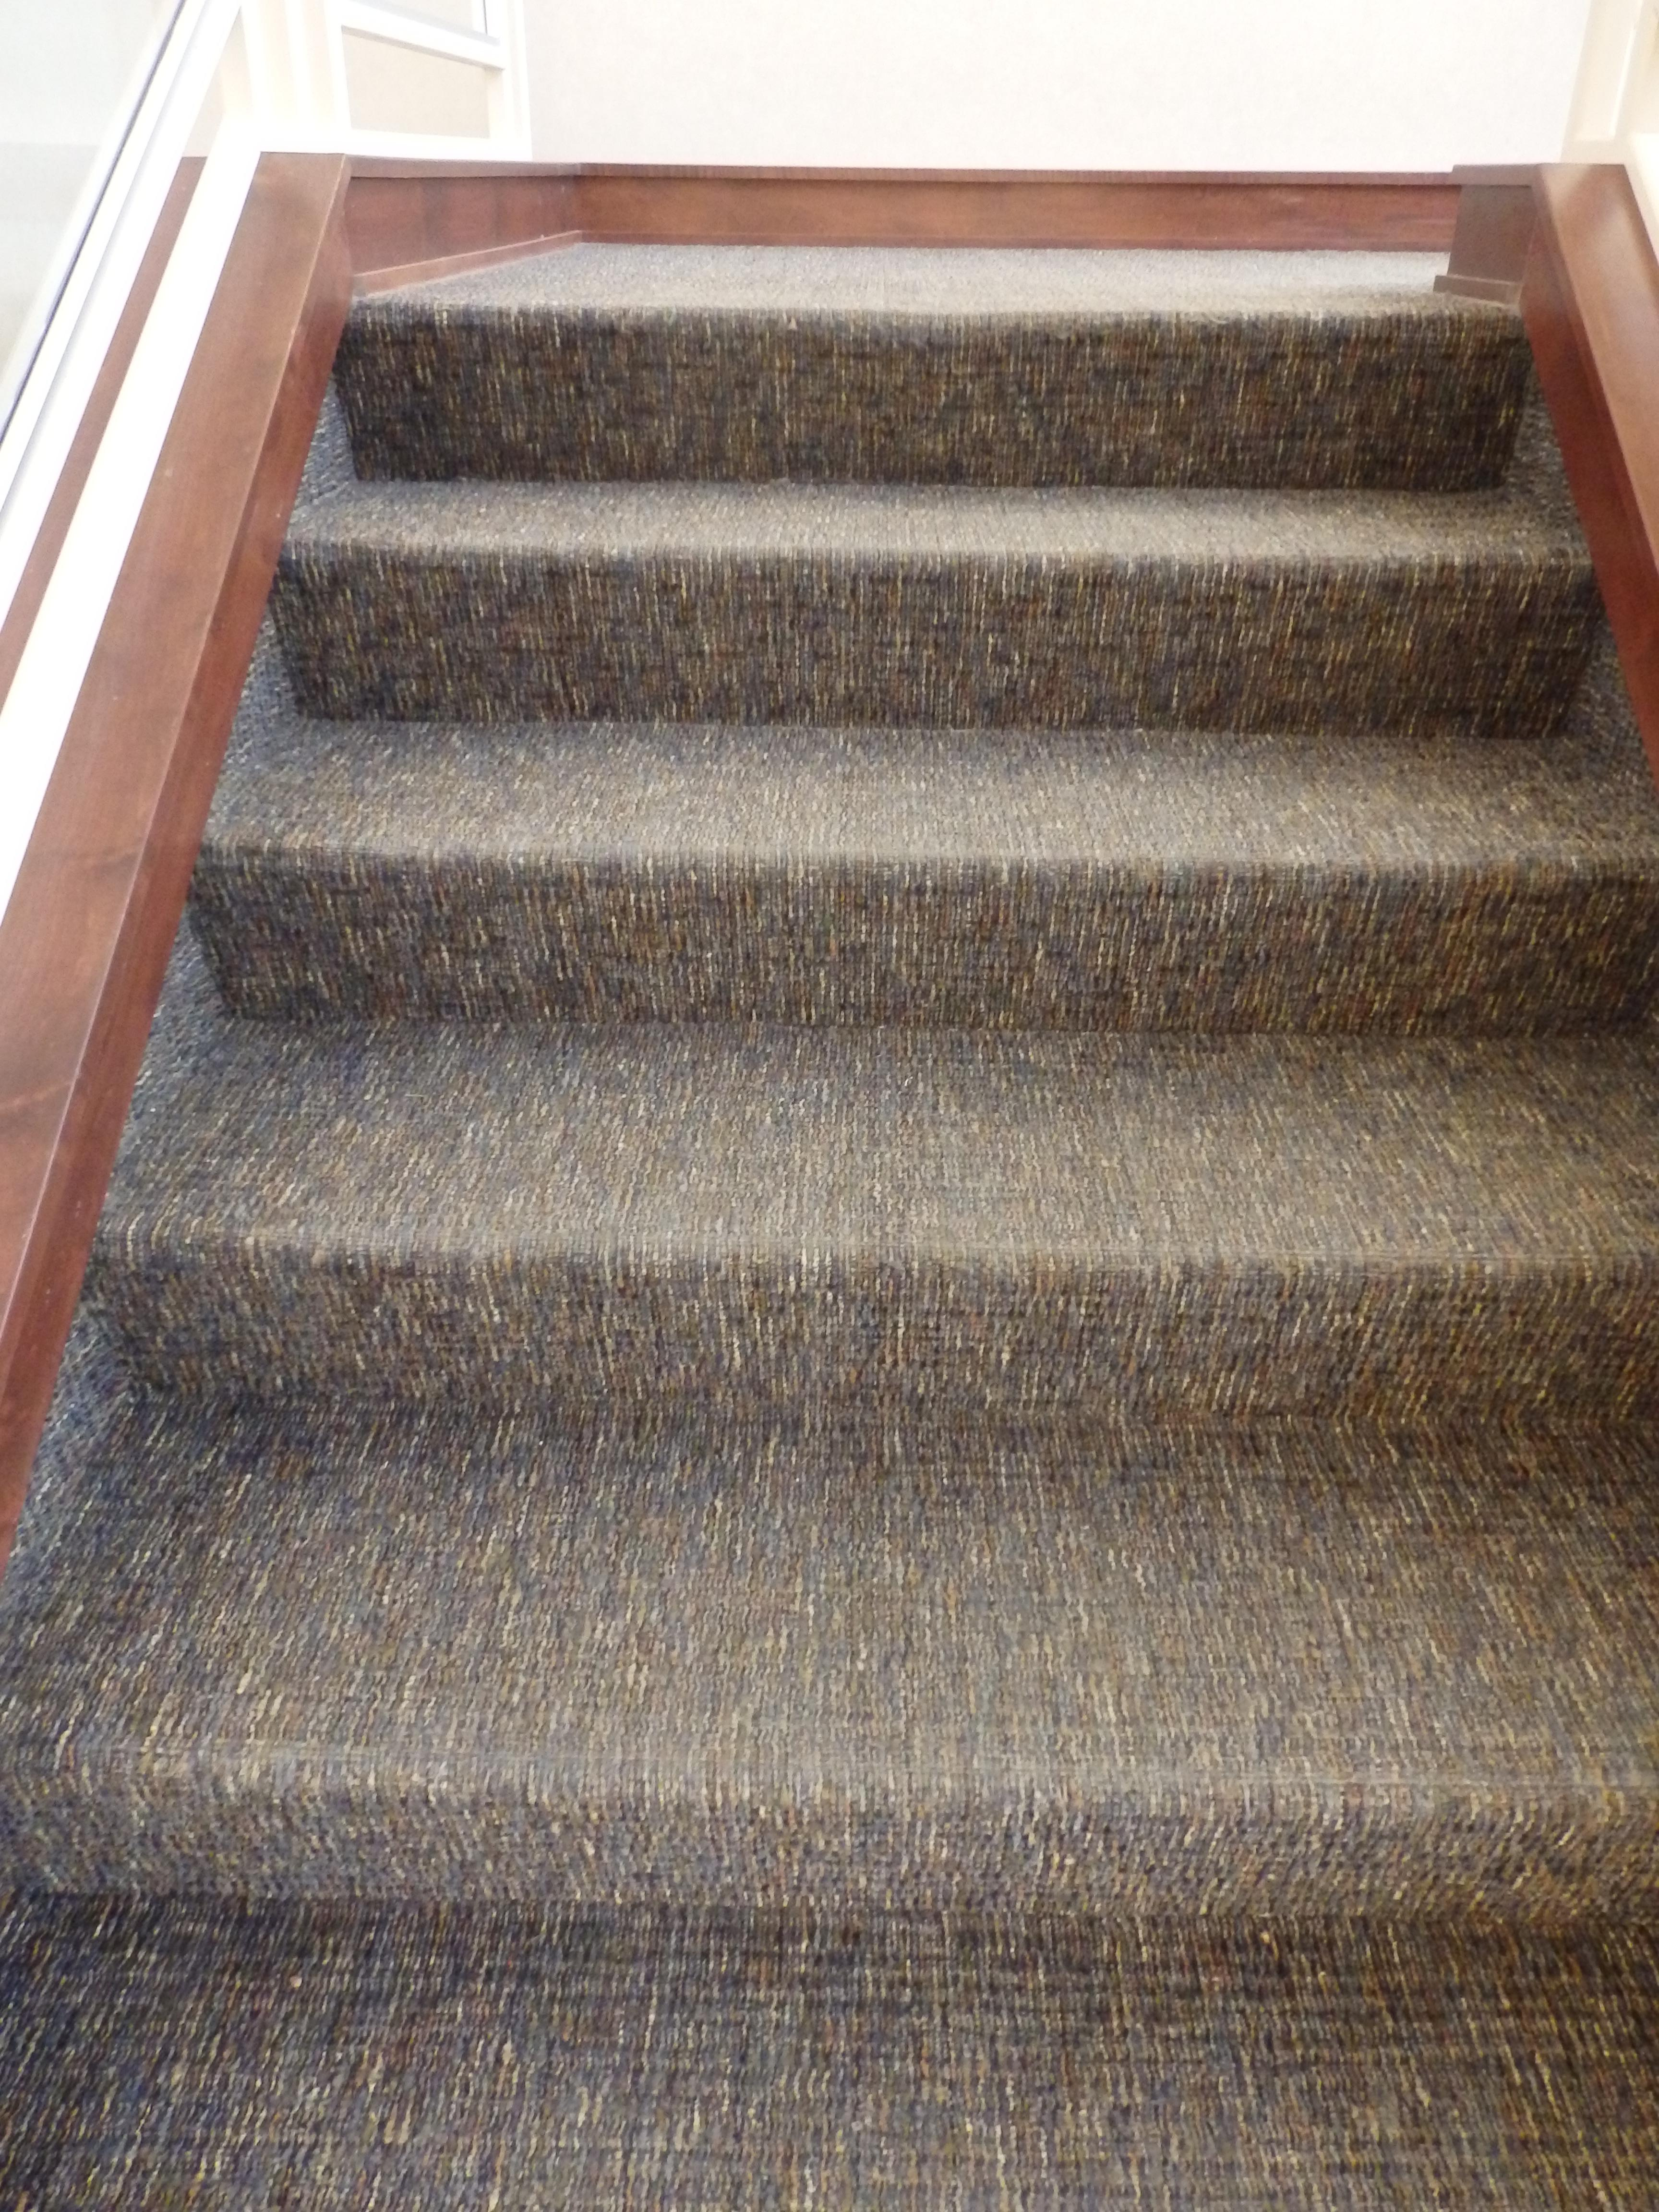stairs_up: (131, 301, 1645, 1972)
